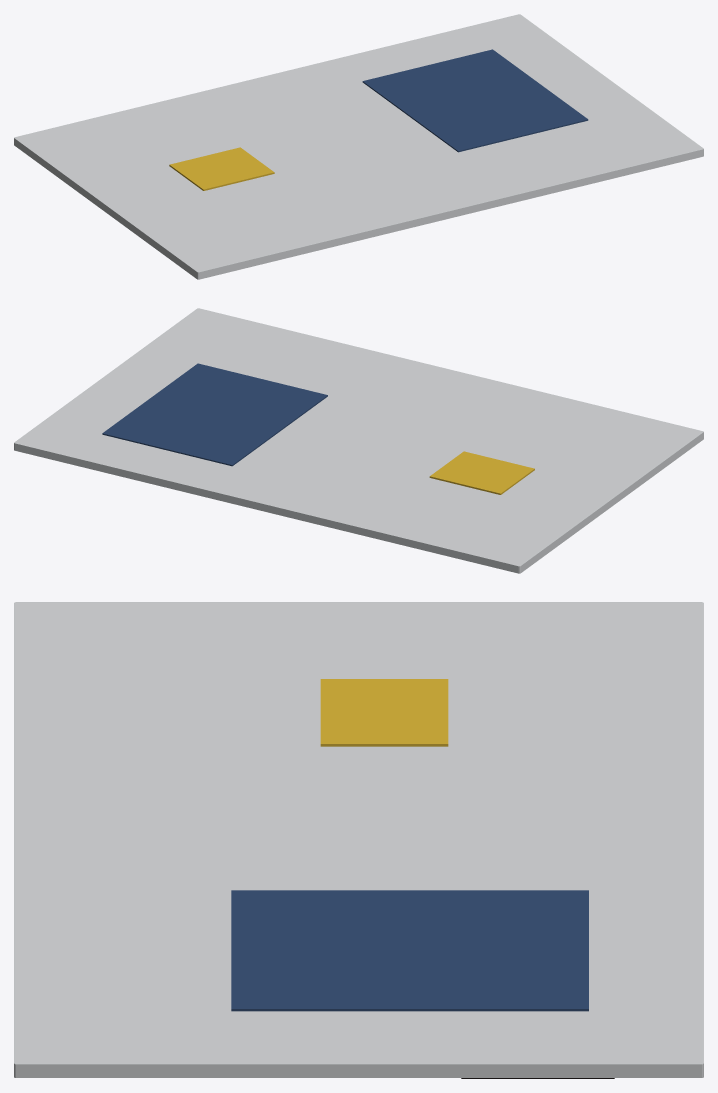
Rendered from Prop_Citizen_ID.obj.
3 views of the same model, one above another, from view 1: azimuth 30°, elevation 25°; view 2: azimuth 150°, elevation 25°; view 3: azimuth 270°, elevation 25° (orthographic). The views are drawn at different scales.
Visible parts, largest first — view 1: Cube, Cube.002, Cube.001; view 2: Cube, Cube.002, Cube.001; view 3: Cube, Cube.002, Cube.001.
Part boxes in pixels (x1=…): Cube: x1=14, y1=14, x2=703, y2=279; Cube.002: x1=362, y1=49, x2=588, y2=152; Cube.001: x1=169, y1=147, x2=274, y2=190; Cube: x1=14, y1=308, x2=703, y2=573; Cube.002: x1=102, y1=363, x2=327, y2=466; Cube.001: x1=429, y1=451, x2=534, y2=494; Cube: x1=14, y1=602, x2=703, y2=1077; Cube.002: x1=231, y1=890, x2=588, y2=1011; Cube.001: x1=320, y1=679, x2=448, y2=746.
Size of the model in its own units: 0.0856 by 0.00165 by 0.054.
